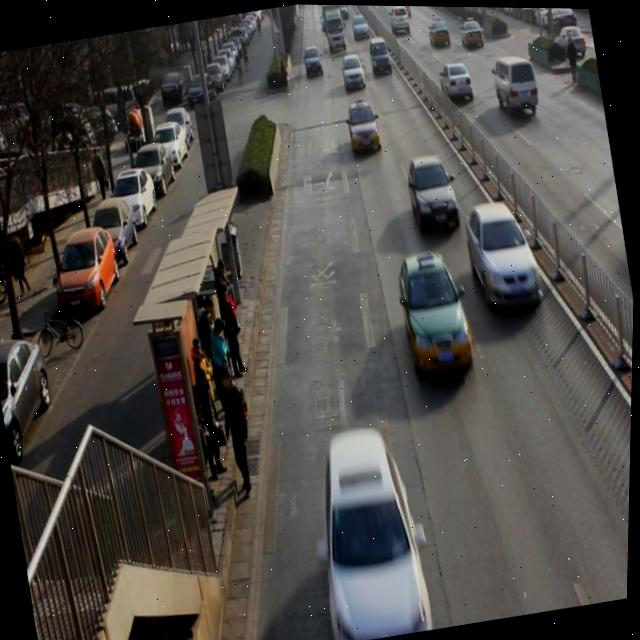bus: (321, 4, 349, 51)
car: (309, 423, 438, 640), (393, 247, 481, 378), (463, 199, 545, 311), (401, 152, 463, 236), (436, 53, 477, 104), (345, 100, 382, 149), (366, 33, 395, 77), (339, 50, 368, 90), (426, 11, 453, 51), (301, 43, 326, 79), (462, 15, 487, 49), (386, 5, 412, 35), (350, 12, 371, 40)
truck: (490, 50, 547, 122)
